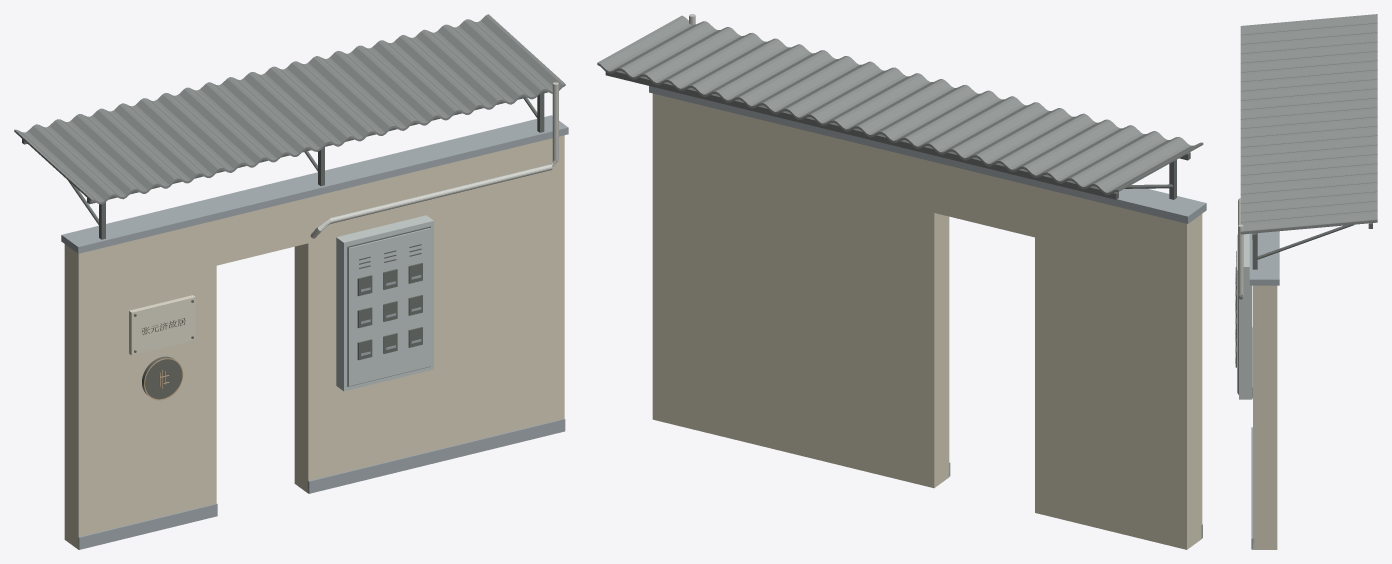
The model's file is xuhui-shangfang-garden-no24-entrance-web.glb.
The picture shows the model from 3 angles, left to right: view 1: azimuth 30°, elevation 25°; view 2: azimuth 150°, elevation 25°; view 3: azimuth 270°, elevation 25°; orthographic projection. The views are drawn at different scales.
Parts seen in each view (by area): view 1: 上方花园24号张元济故居弄门; view 2: 上方花园24号张元济故居弄门; view 3: 上方花园24号张元济故居弄门.
Part boxes in pixels (x1=…): 上方花园24号张元济故居弄门: x1=14, y1=14, x2=568, y2=549; 上方花园24号张元济故居弄门: x1=597, y1=14, x2=1206, y2=549; 上方花园24号张元济故居弄门: x1=1235, y1=14, x2=1377, y2=549.
Bounding box in the file's own units: 4.12 × 2.95 × 1.16.
